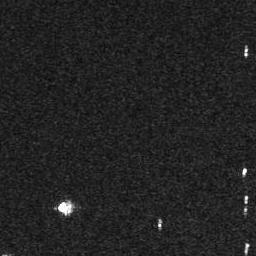ship: (241, 167, 248, 177), (245, 242, 249, 254)
